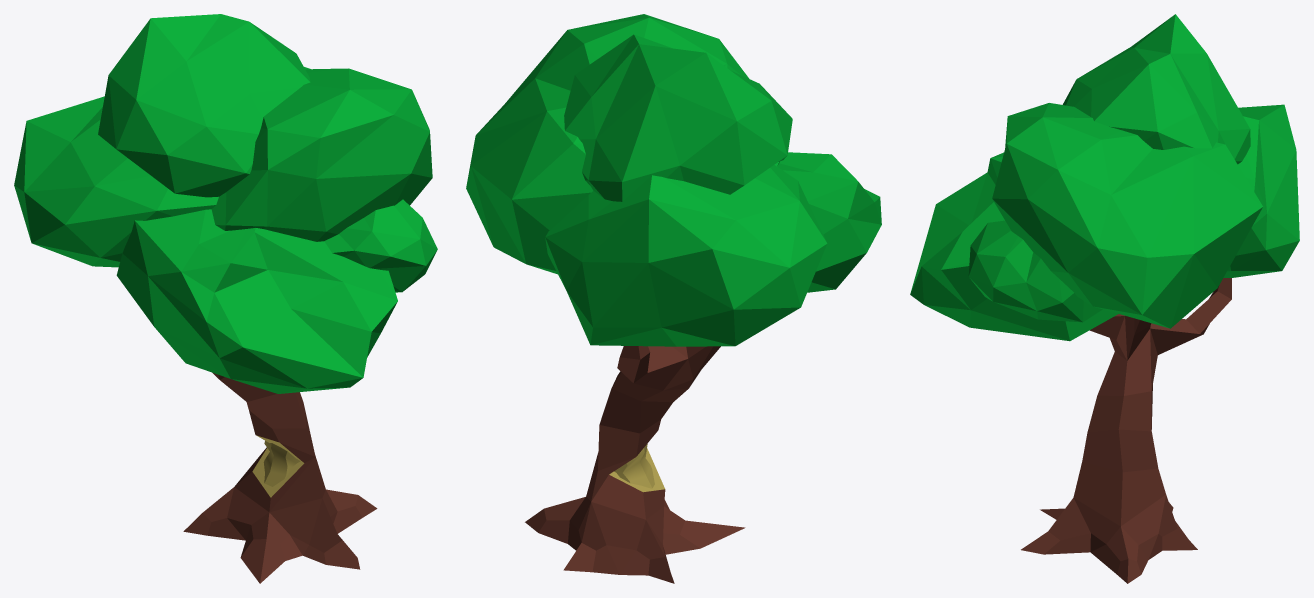
The model's file is TreeB_01.fbx.
3 renders of one model, left to right at view 1: azimuth 30°, elevation 25°; view 2: azimuth 150°, elevation 25°; view 3: azimuth 270°, elevation 25°, orthographic. The views are drawn at different scales.
Visible parts, largest first — view 1: TreeB_01; view 2: TreeB_01; view 3: TreeB_01.
Part boxes in pixels (box(x1,y1,x2,y2)): TreeB_01: box(14, 14, 437, 583); TreeB_01: box(466, 14, 881, 583); TreeB_01: box(910, 14, 1299, 583).
Bounding box in the file's own units: 8.35 × 11.71 × 8.62.
